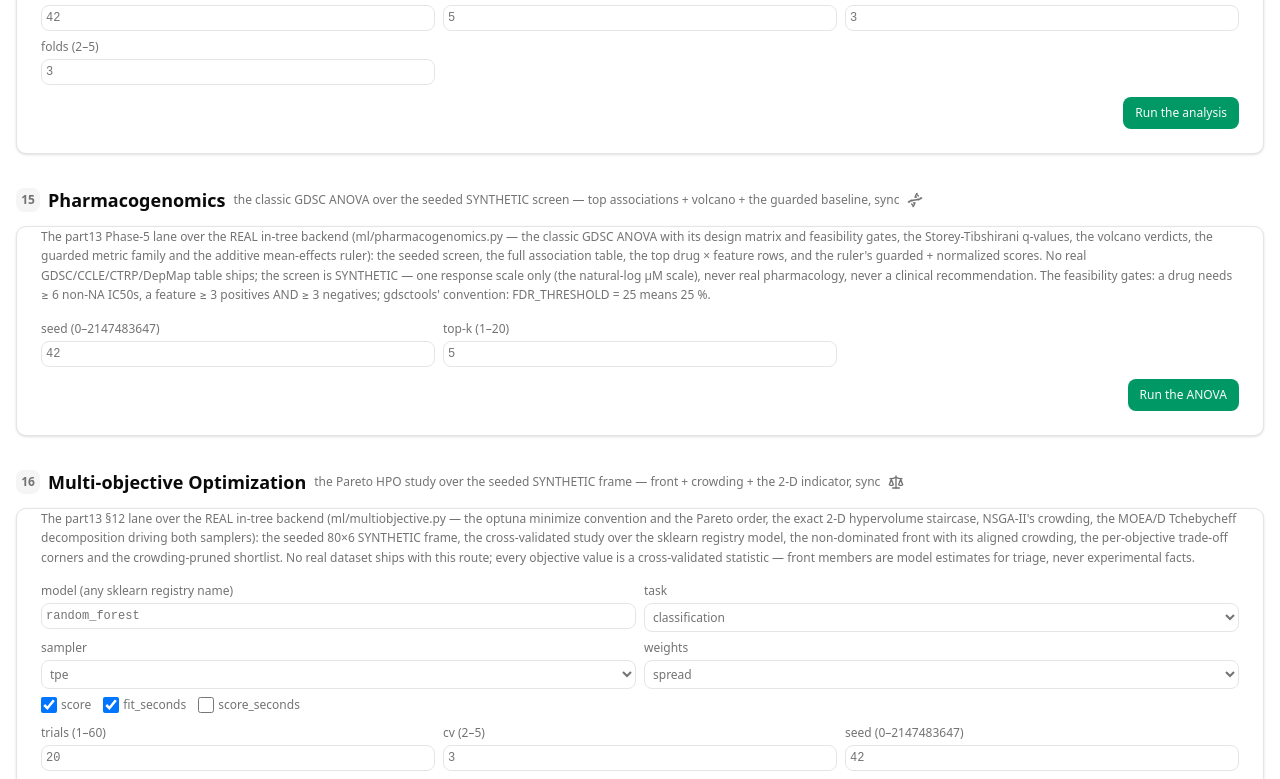
the pharmacogenomics lane of the Machine Learning workspace › runs the analyze round trip and renders the association table
(page scrolled)
Click the button "Run the ANOVA" at (1183, 395), box [1128, 379, 1239, 411]
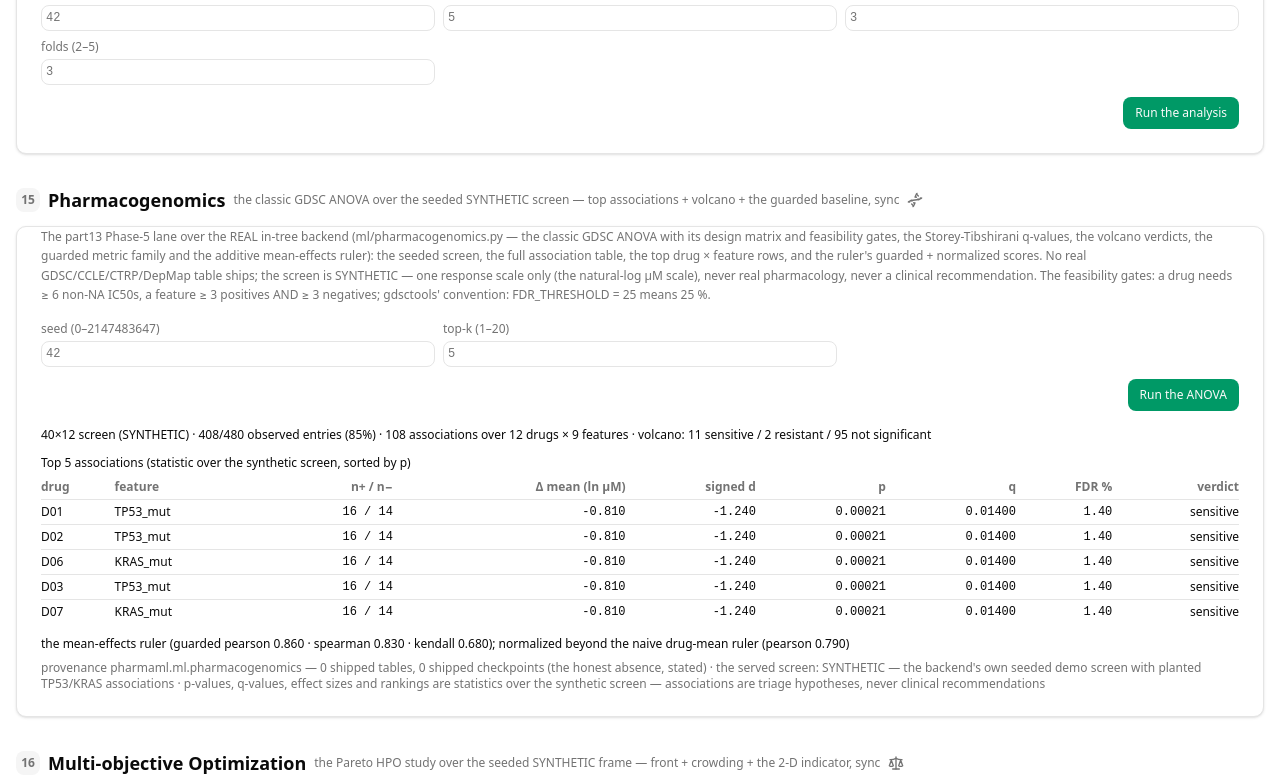
Expected: the text "volcano: 11 sensitive / 2 resistant / 95 not significant" is shown, [41, 426, 931, 443]
Expected: the text "Top 5 associations" is shown, [41, 454, 411, 471]
Expected: the text "statistic over the synthetic screen, sorted by p" is shown, [72, 454, 411, 471]
